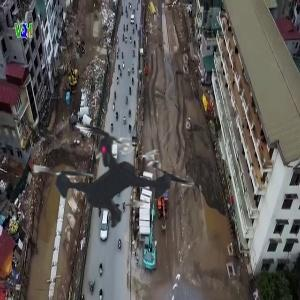drone: (3, 65, 228, 290)
